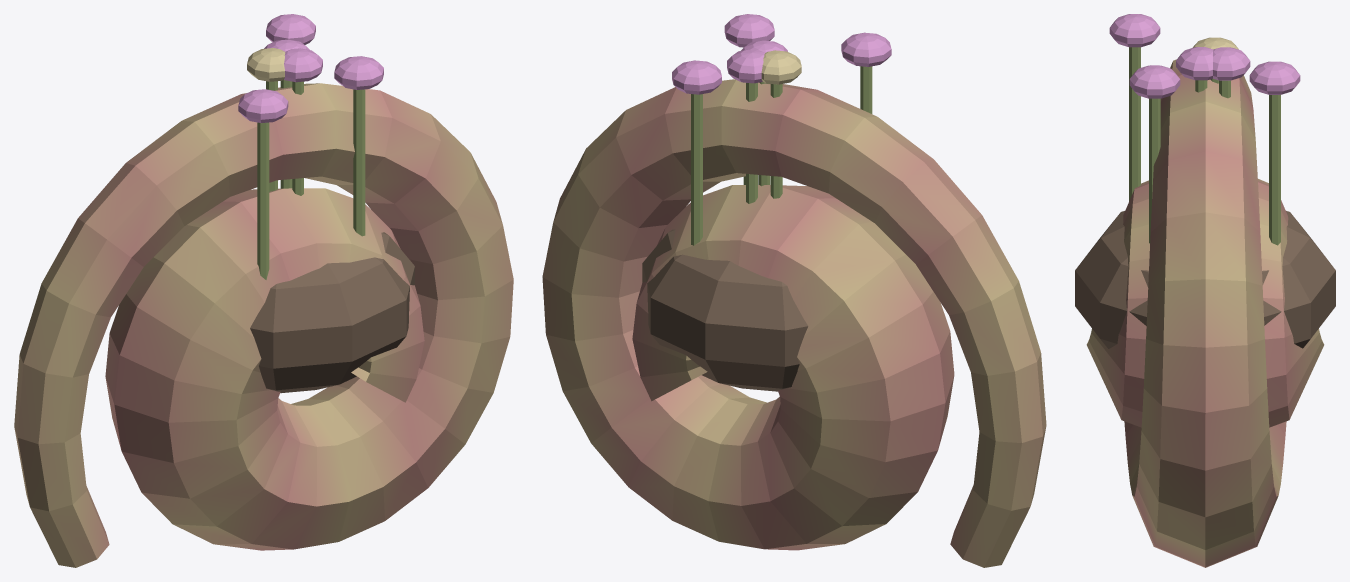
File: SnailShellPlanter.fbx
3 renders of one model, left to right at view 1: azimuth 30°, elevation 25°; view 2: azimuth 150°, elevation 25°; view 3: azimuth 270°, elevation 25°, orthographic.
Visible parts, largest first — view 1: Prop_SnailShellPlanter; view 2: Prop_SnailShellPlanter; view 3: Prop_SnailShellPlanter.
Part boxes in pixels (x1,y1,x2,y2): Prop_SnailShellPlanter: [14, 14, 513, 567]; Prop_SnailShellPlanter: [542, 14, 1046, 567]; Prop_SnailShellPlanter: [1075, 14, 1335, 567].
Bounding box in the file's own units: 0.7588 × 0.7343 × 0.351.
